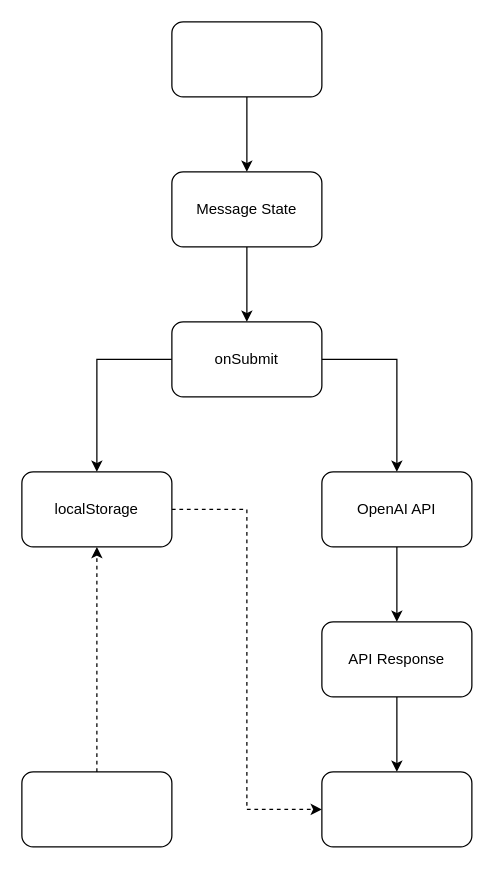
Image size: 494x869. Some labels were removed from this diagram. The shapes that lost their labels are listed below. From the top down, each one's centre as x and y in pixels, then its label:
point 246,59: User Input
point 96,809: User Refresh
point 396,809: Display
